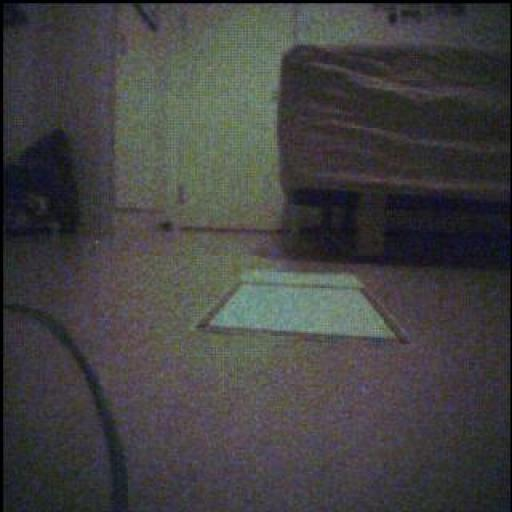pad: (200, 272, 408, 344)
